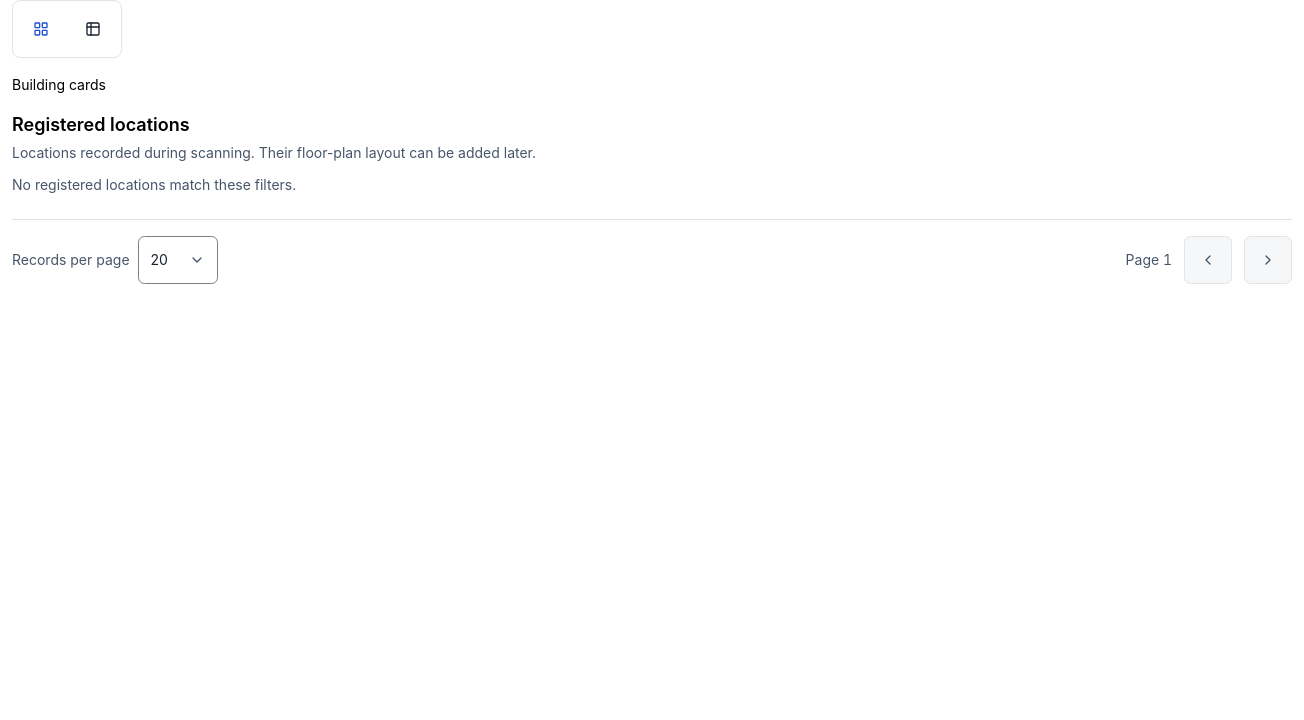
Scenario: shows an honest empty state and retains view controls
Click the button named "All locations" at (93, 29), box [69,5,117,53]
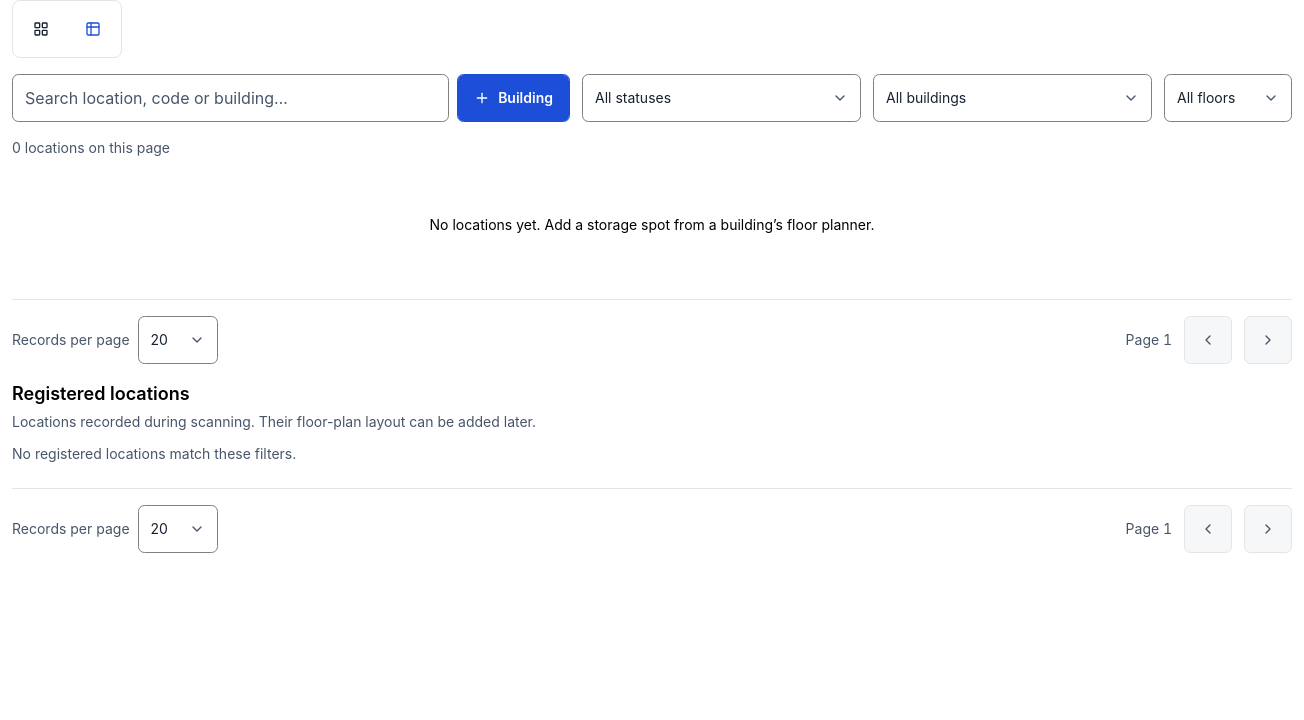
Check: the text "No locations yet" is shown, box [430,216,874,233]
Click the button named "Buildings" at (41, 29), box [17,5,65,53]
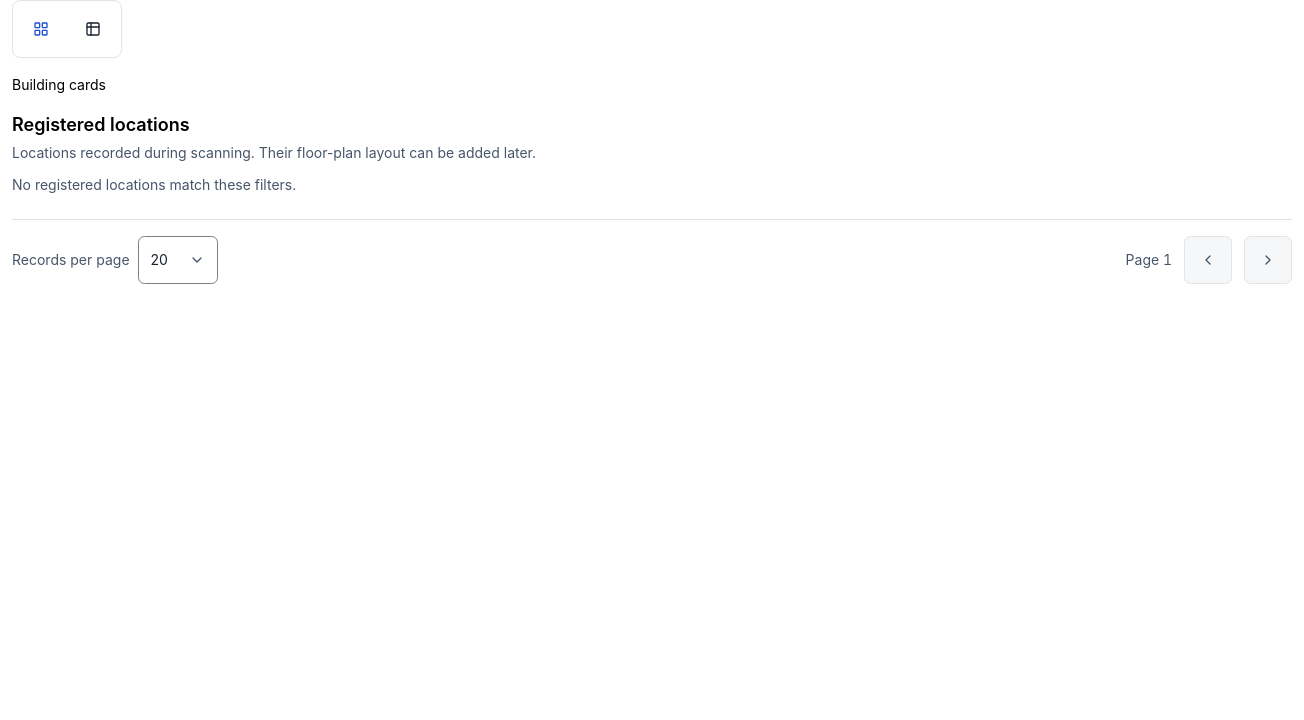
Check: the text "Building cards" is shown, box [12,76,106,93]
